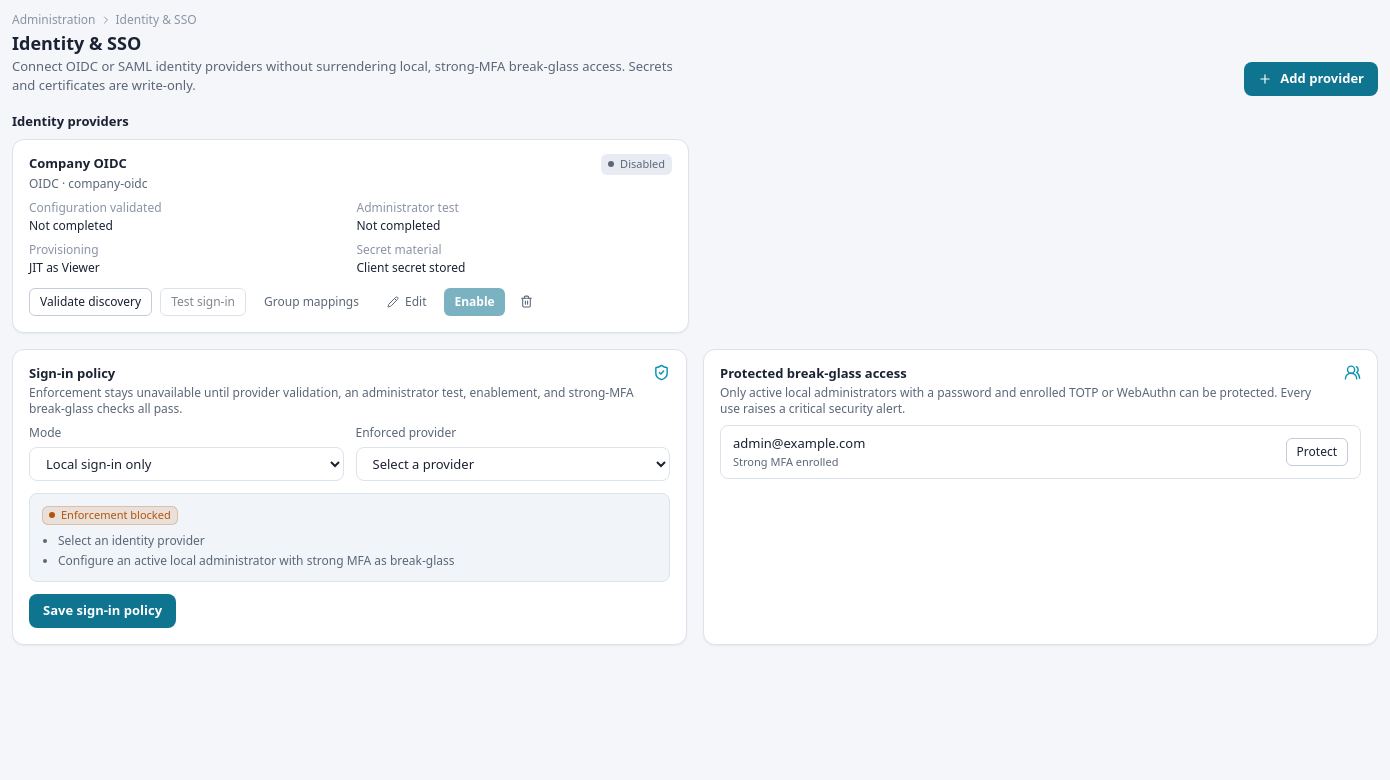
Test: shows test-before-enable readiness and protects a strong-MFA administrator
This screenshot has width=1390, height=780.
Expected: the heading "Company OIDC" is shown, [29, 154, 127, 172]
Expected: the text "Client secret stored" is shown, [356, 258, 465, 276]
Click the button "Validate discovery": {"x": 91, "y": 302} [29, 288, 152, 316]
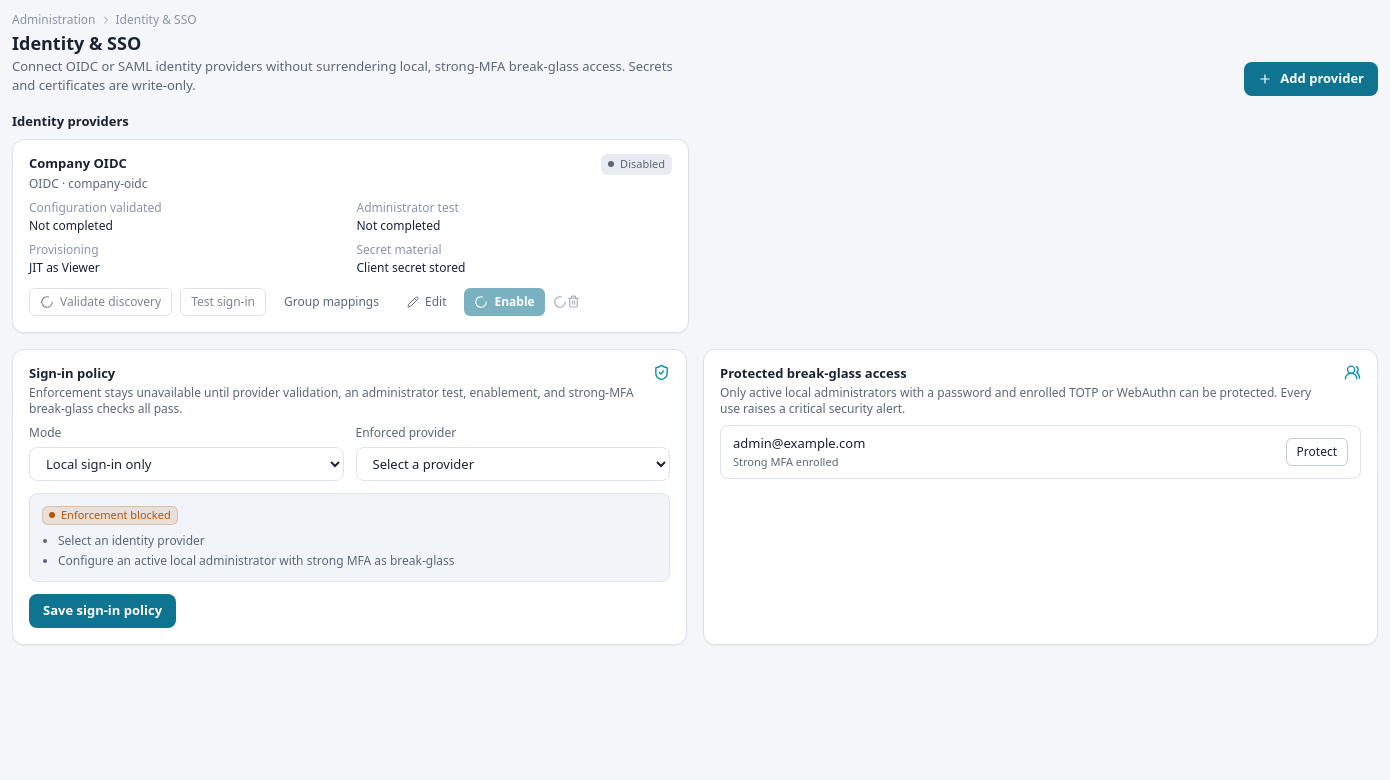
Click the button "Protect": {"x": 1317, "y": 452} [1286, 438, 1348, 466]
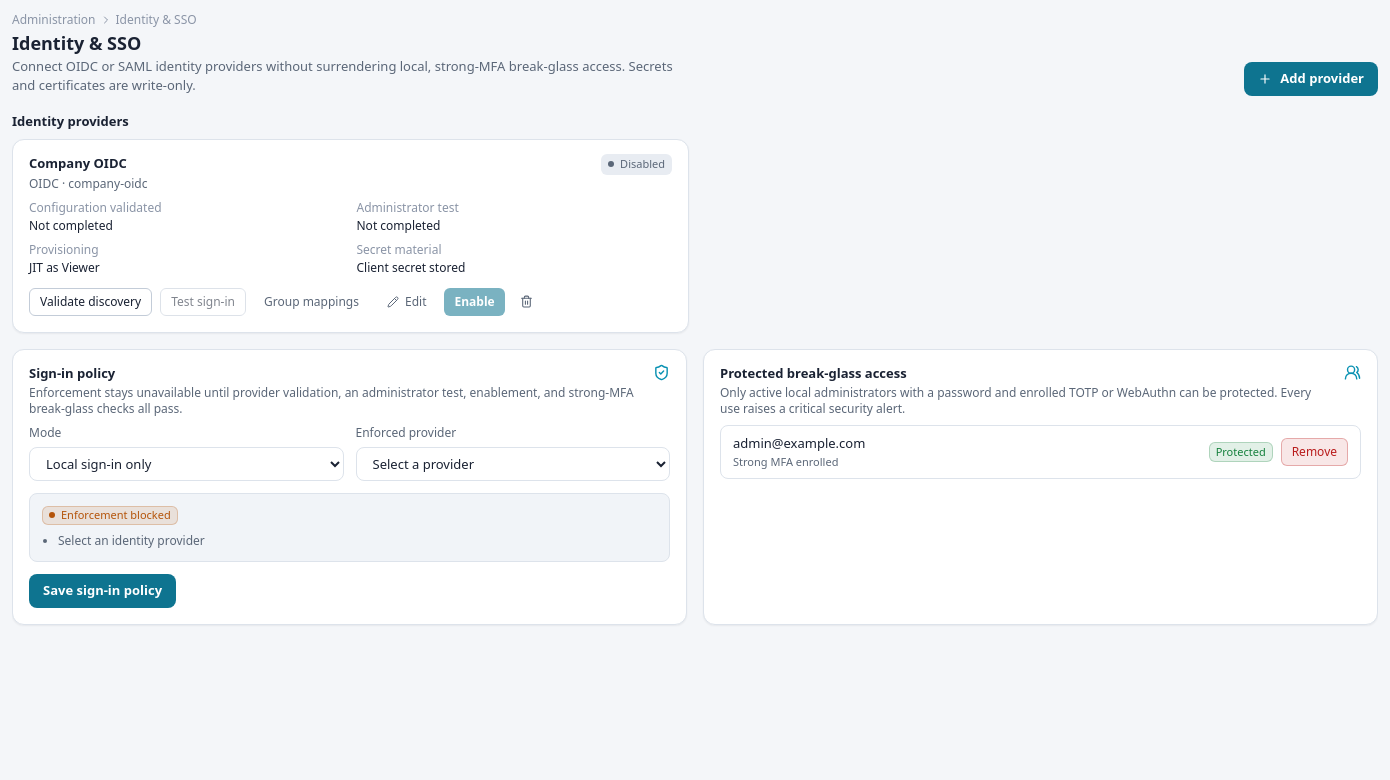
Expected: the text "Protected" is shown, [1209, 442, 1273, 462]
